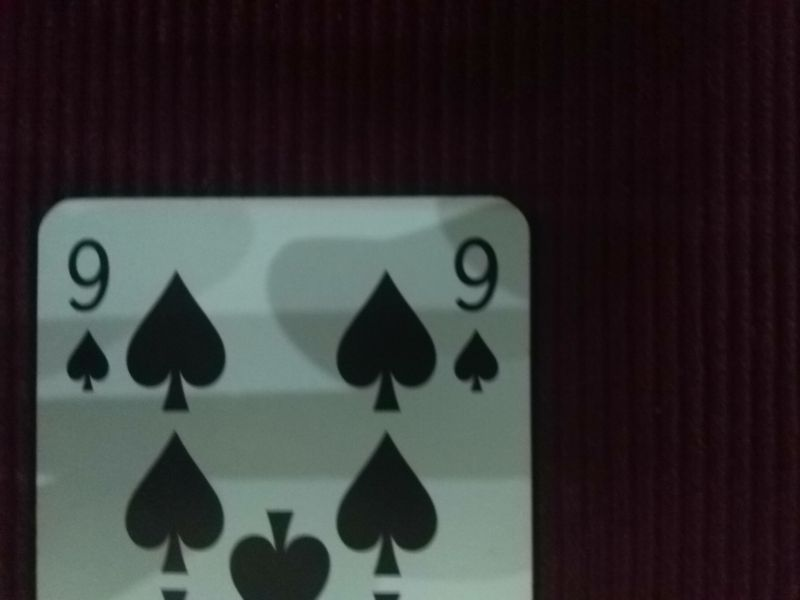9s: (54, 229, 118, 401), (447, 229, 504, 404)
